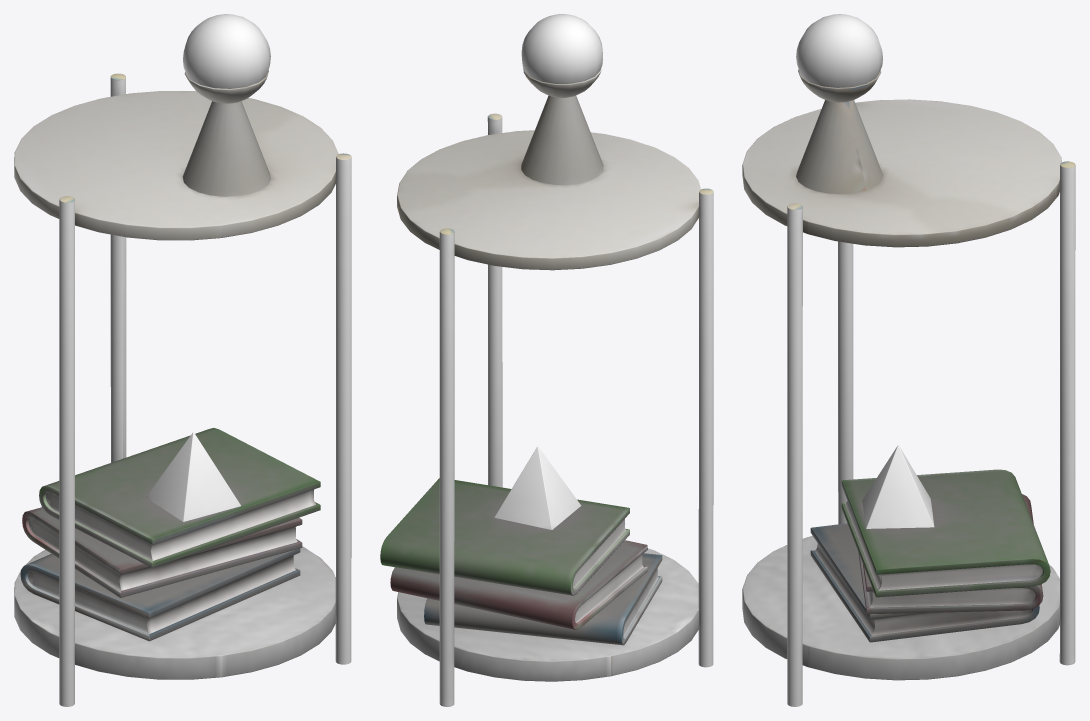
File: EE_Corner_Table_01.gltf
The picture shows the model from 3 angles, left to right: view 1: azimuth 30°, elevation 25°; view 2: azimuth 150°, elevation 25°; view 3: azimuth 270°, elevation 25°; orthographic projection. The views are drawn at different scales.
Parts seen in each view (by area): view 1: EE_Corner_Table_01.001; view 2: EE_Corner_Table_01.001; view 3: EE_Corner_Table_01.001.
Part boxes in pixels (x1=…): EE_Corner_Table_01.001: x1=14, y1=14, x2=351, y2=706; EE_Corner_Table_01.001: x1=380, y1=14, x2=713, y2=706; EE_Corner_Table_01.001: x1=742, y1=14, x2=1075, y2=706.
Size of what is drawn, in the model's own units: 0.3561 by 0.7732 by 0.3645.
Materials: 3 (3 with a texture image).
